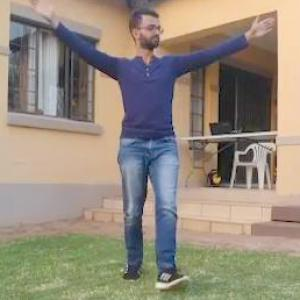takeoff: (48, 0, 296, 299)
